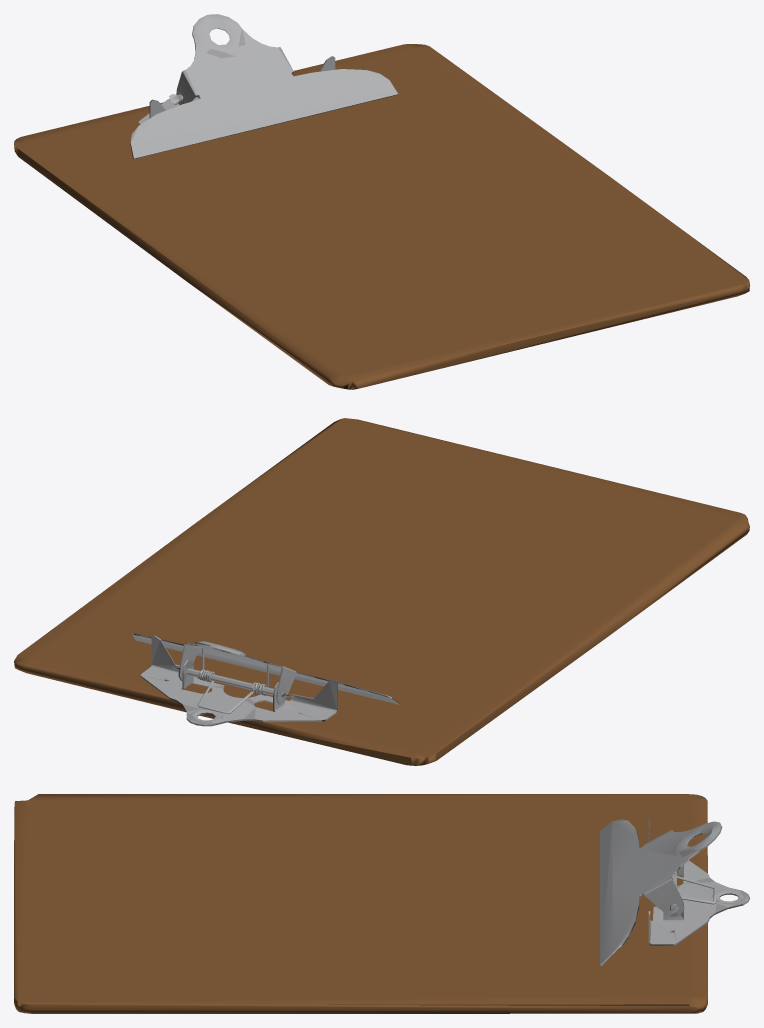
Rendered from clipboard.glb.
3 views of the same model, one above another, from view 1: azimuth 30°, elevation 25°; view 2: azimuth 150°, elevation 25°; view 3: azimuth 270°, elevation 25° (orthographic). The views are drawn at different scales.
Visible parts, largest first — view 1: clipboard; view 2: clipboard; view 3: clipboard.
Boxes of the visible parts, x1=… form: clipboard: x1=14, y1=14, x2=749, y2=389; clipboard: x1=14, y1=418, x2=749, y2=765; clipboard: x1=14, y1=794, x2=749, y2=1013.
Size of the model in its own units: 0.2284 by 0.0419 by 0.3365.
